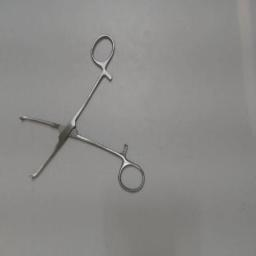Allis Tissue Forceps: (16, 30, 152, 198)
